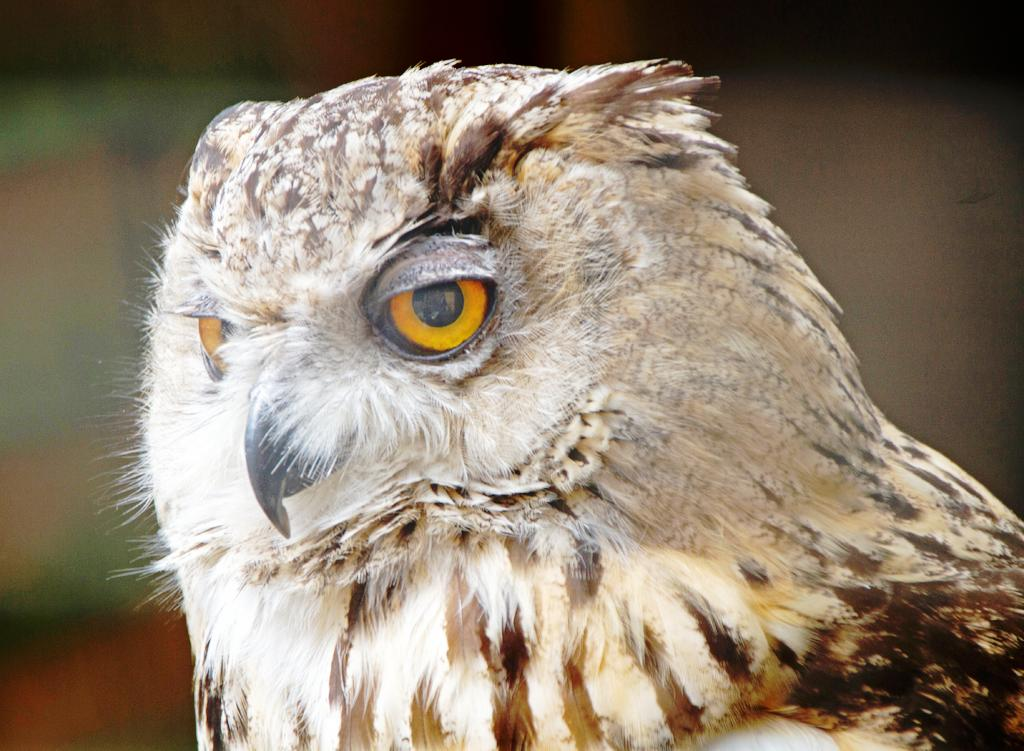Owl: (100, 57, 1024, 750)
